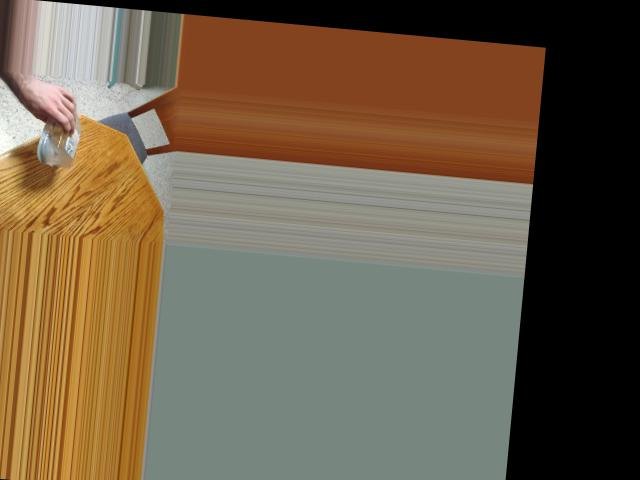cheese: (32, 99, 84, 157)
